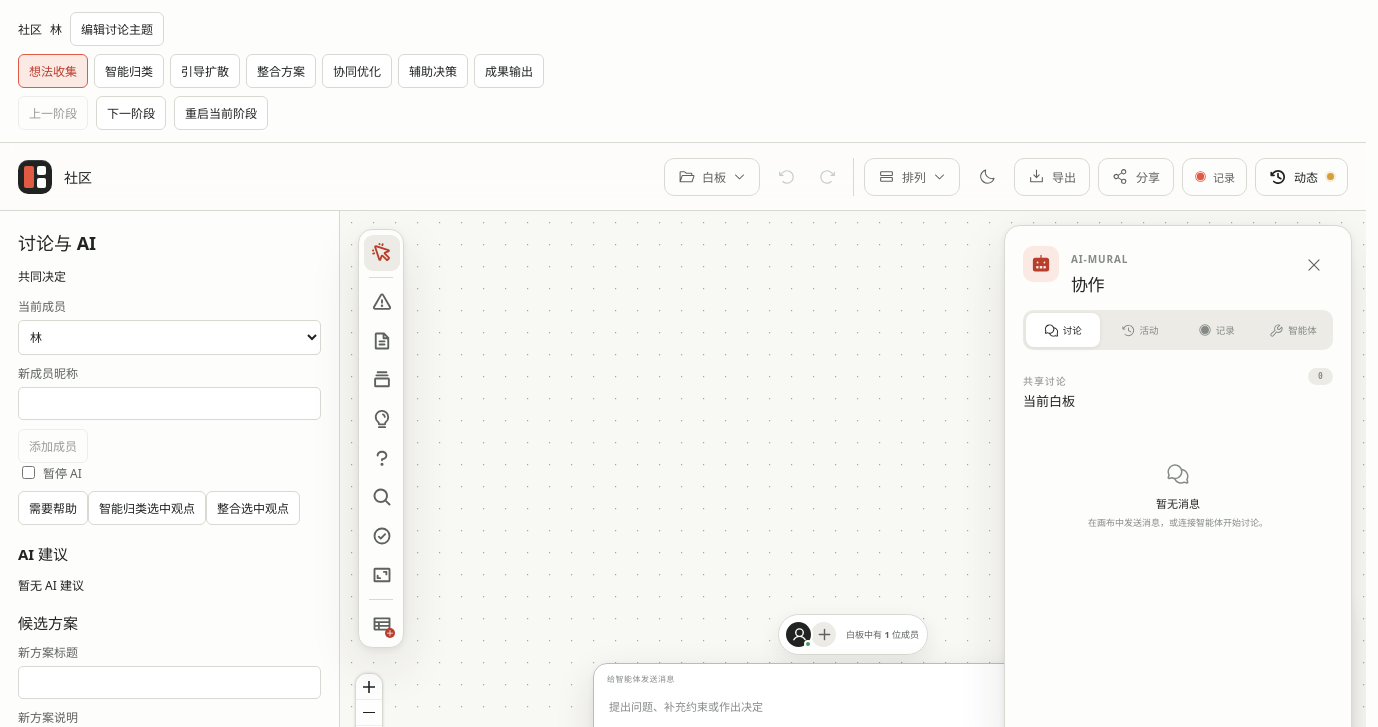
Test: 重复观点分析只由主动归类请求触发，传递选中 ID
The width and height of the screenshot is (1378, 727).
Click the button "智能归类选中观点" at (147, 508), box x1=88 y1=491 x2=206 y2=525
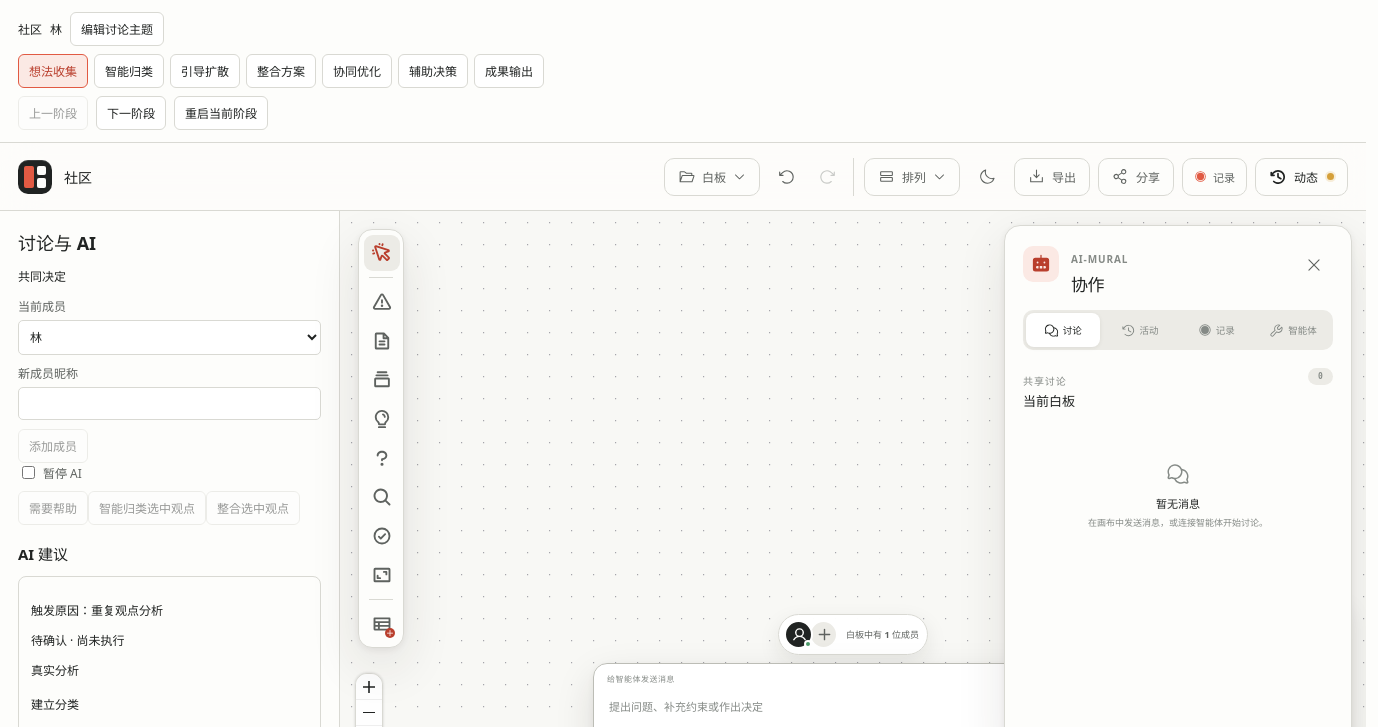
Result: the text "真实分析" is shown at x1=31 y1=662 x2=79 y2=679
Result: the text "触发原因：重复观点分析" is shown at x1=31 y1=602 x2=163 y2=619
